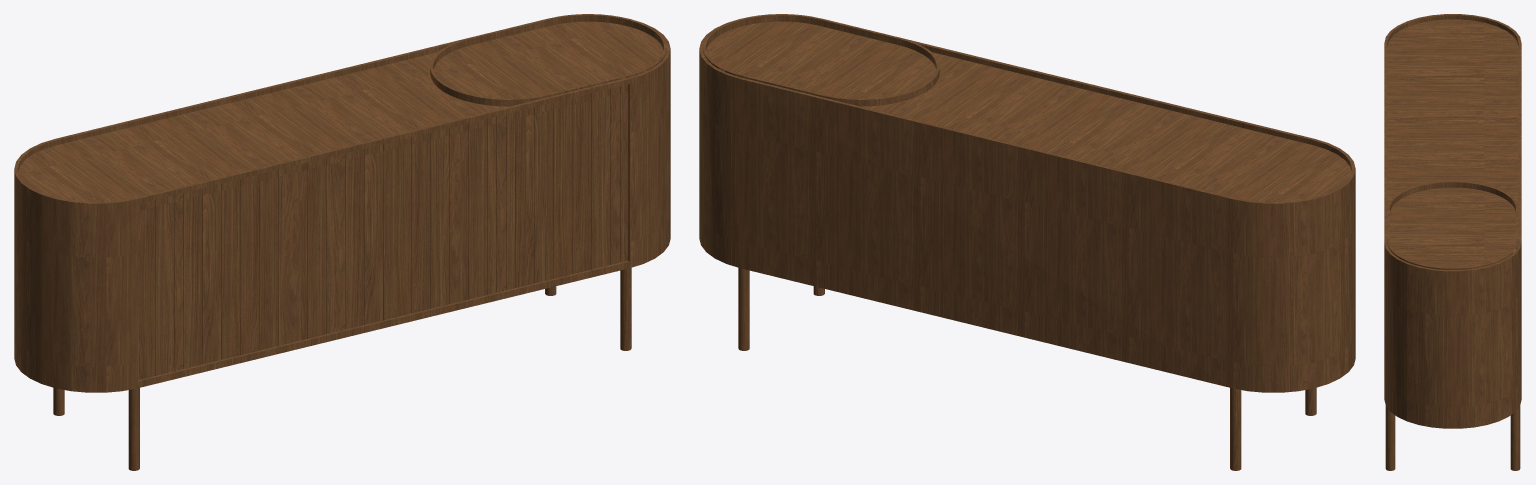
Rendered from sideboard_buffet_copacabana_arti_agave_grupo_oca.glb.
The picture shows the model from 3 angles, left to right: view 1: azimuth 30°, elevation 25°; view 2: azimuth 150°, elevation 25°; view 3: azimuth 270°, elevation 25°; orthographic projection. The views are drawn at different scales.
Visible parts, largest first — view 1: Object_16, Object_3; view 2: Object_16; view 3: Object_16.
Boxes of the visible parts, left/top/right/bottom form: Object_16: left=14, top=14, right=670, bottom=470; Object_3: left=138, top=70, right=645, bottom=380; Object_16: left=699, top=14, right=1355, bottom=470; Object_16: left=1384, top=14, right=1521, bottom=470.
Size of the model in its own units: 2 by 0.825 by 0.4499.
Materials: 3 (2 with a texture image).
